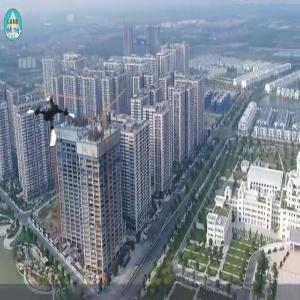drone: (24, 95, 78, 149)
